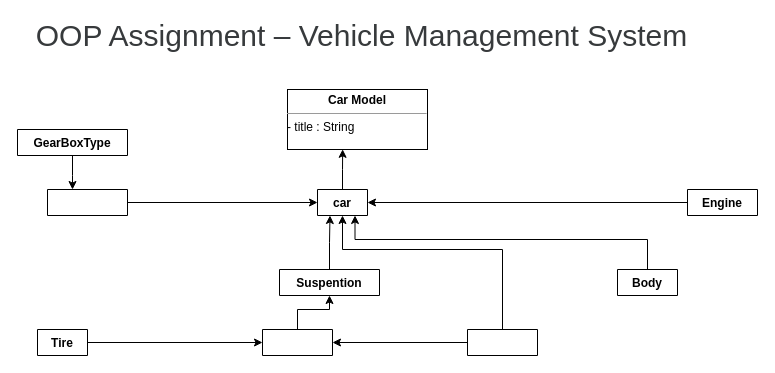
Image size: 775x373. Some labels were removed from this diagram. Here are the shapes that lost their labels. From the top down, the box of each, then its label:
(46, 188, 128, 216): GearBox
(262, 328, 332, 356): Wheel
(466, 328, 538, 356): Brake
